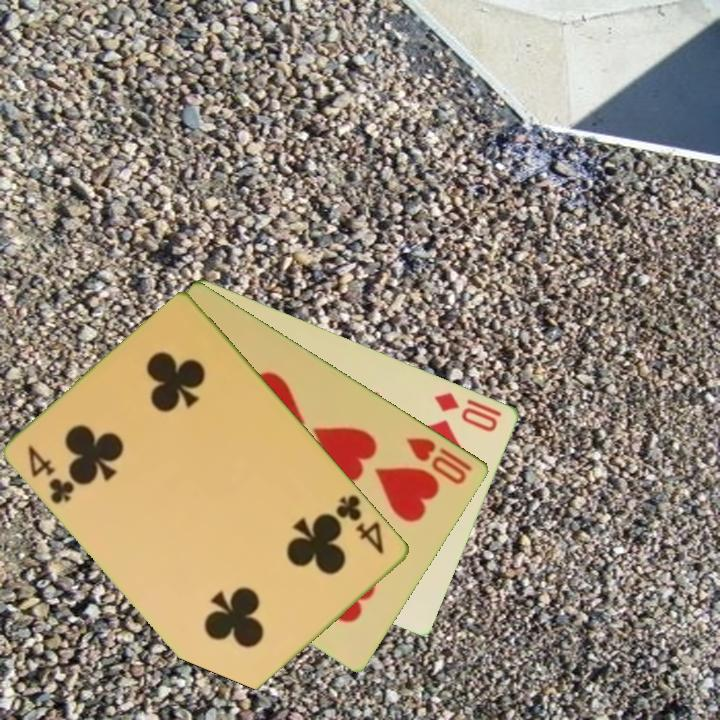10d: (431, 388, 505, 435)
10h: (403, 433, 476, 488)
4c: (333, 491, 388, 557), (24, 442, 78, 508)
